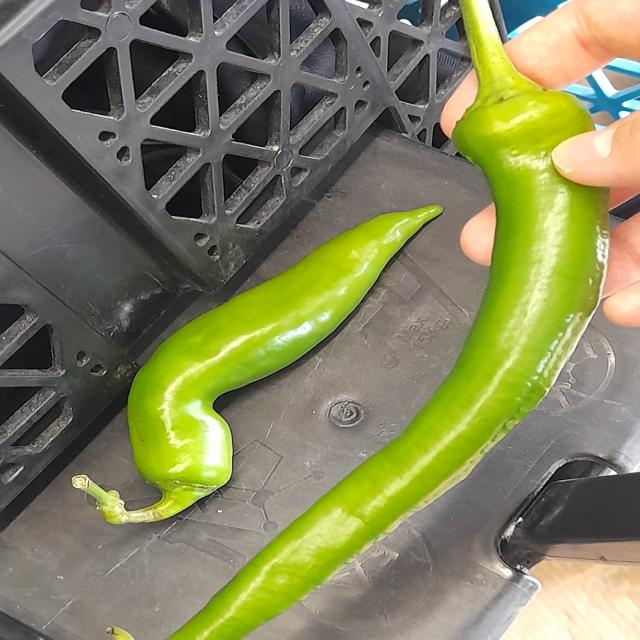green pepper: (150, 30, 598, 640)
